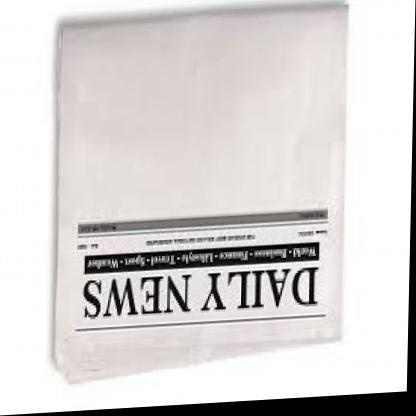trash: (55, 4, 346, 380)
